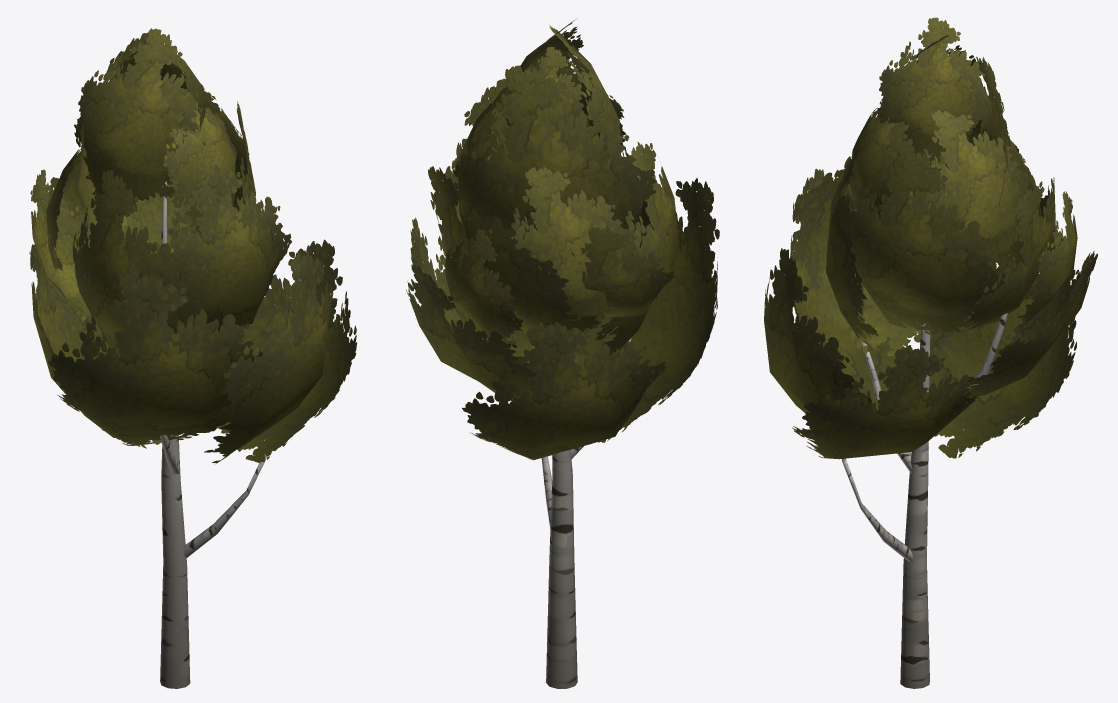
File: Tree4.glb
The picture shows the model from 3 angles, left to right: view 1: azimuth 30°, elevation 25°; view 2: azimuth 150°, elevation 25°; view 3: azimuth 270°, elevation 25°; orthographic projection. The views are drawn at different scales.
Visible parts, largest first — view 1: birch_green_1.002_birch_0; view 2: birch_green_1.002_birch_0; view 3: birch_green_1.002_birch_0.
Part boxes in pixels (x1,y1,x2,y2): birch_green_1.002_birch_0: (29, 28, 356, 688); birch_green_1.002_birch_0: (406, 18, 719, 688); birch_green_1.002_birch_0: (764, 17, 1097, 688).
Bounding box in the file's own units: 2.04 × 4.31 × 2.1.
Materials: 1 (1 with a texture image).
